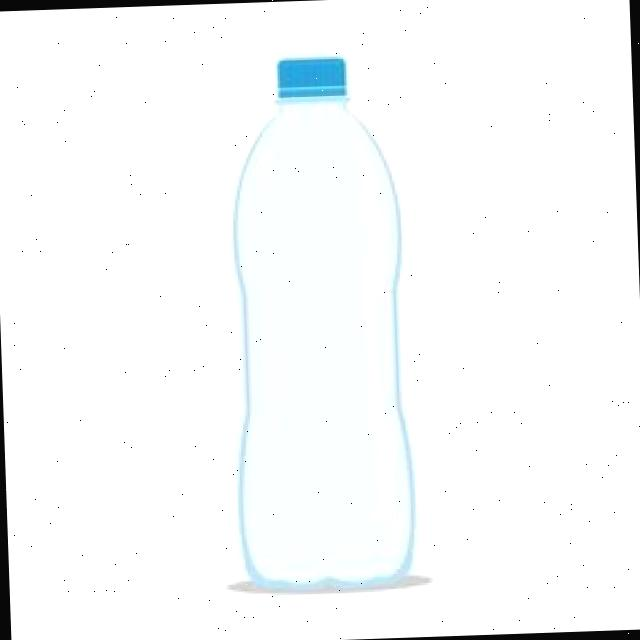bottle: (210, 30, 437, 607)
cap: (270, 48, 356, 108)
